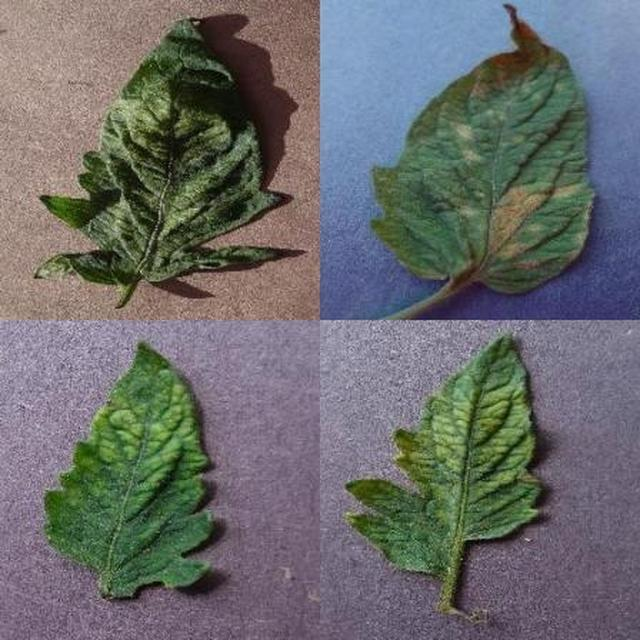Spider Mites Leaf: (184, 213, 640, 640)
